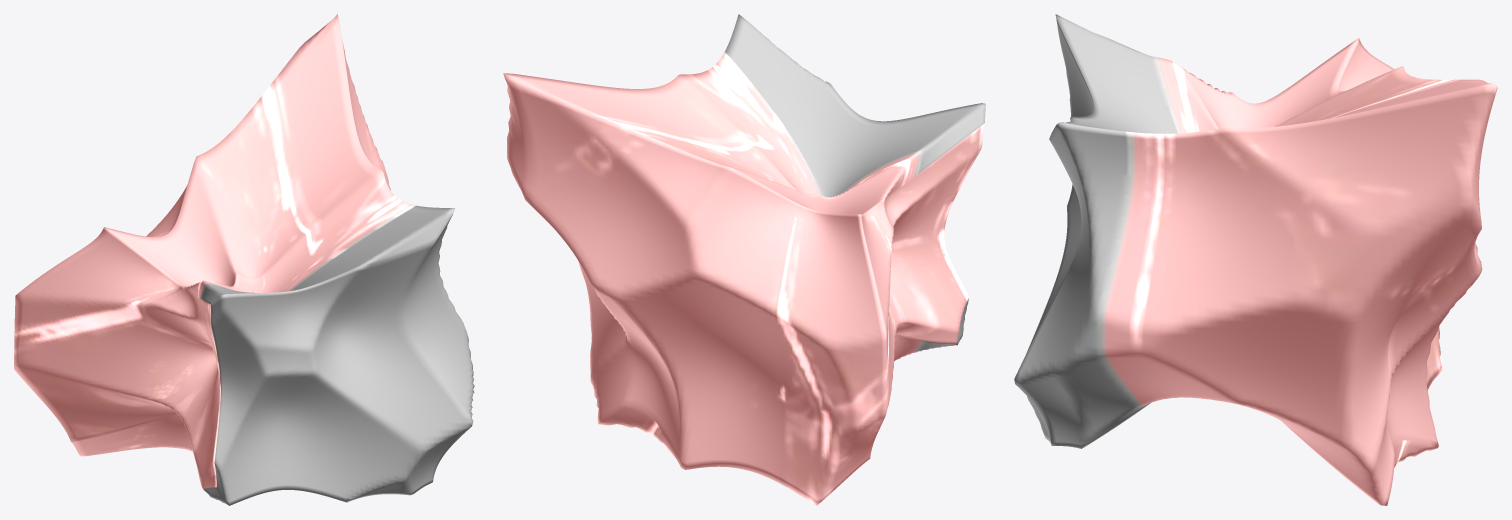
The model's file is gem-0.glb.
3 views of the same model, side by side, from view 1: azimuth 30°, elevation 25°; view 2: azimuth 150°, elevation 25°; view 3: azimuth 270°, elevation 25° (orthographic). The views are drawn at different scales.
Visible parts, largest first — view 1: Gem; view 2: Gem; view 3: Gem.
Part boxes in pixels (<box>): Gem: <box>14,14,474,505</box>; Gem: <box>503,14,985,505</box>; Gem: <box>1014,14,1497,505</box>.
Bounding box in the file's own units: 0.5894 × 0.5771 × 0.5508.
